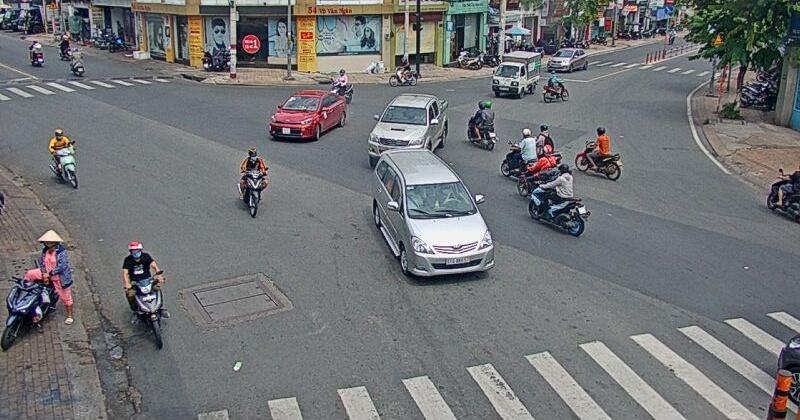xe hoi: (371, 147, 495, 277), (367, 93, 447, 156), (269, 90, 345, 140)
xe may: (121, 241, 169, 348), (527, 164, 586, 236), (574, 126, 621, 180), (237, 148, 269, 218), (48, 128, 79, 189), (466, 100, 497, 152), (542, 69, 569, 102)
xe tai: (491, 50, 542, 98)
